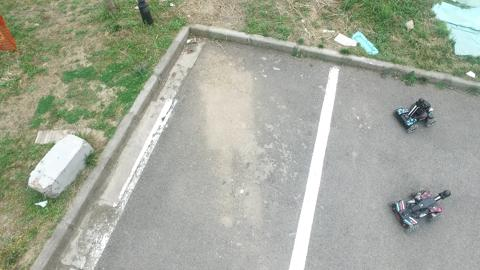chariot: (388, 183, 455, 236), (389, 94, 440, 135)
